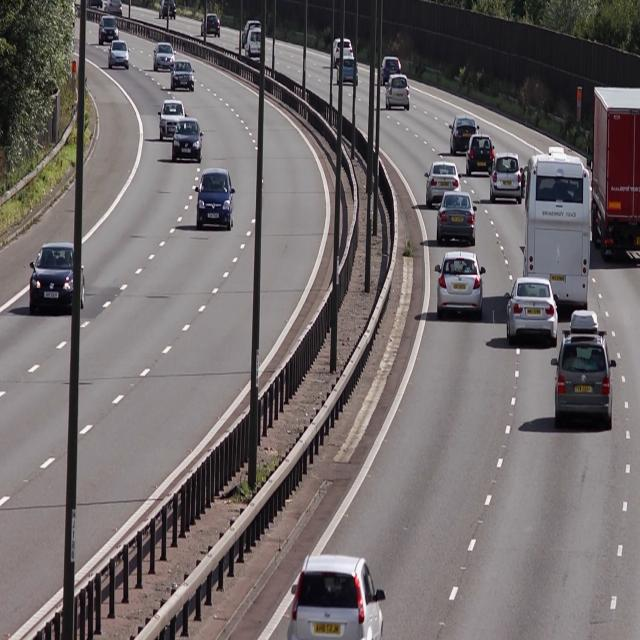Vehicle: (514, 157, 597, 310), (592, 84, 640, 266), (286, 554, 381, 640), (553, 310, 616, 425), (28, 245, 88, 321), (504, 276, 558, 348), (432, 249, 487, 319), (194, 160, 237, 231), (436, 189, 480, 246), (423, 159, 462, 211), (489, 146, 520, 208), (169, 117, 204, 163), (464, 132, 494, 178), (448, 114, 478, 154), (384, 73, 412, 114), (159, 99, 184, 143), (106, 37, 130, 71), (170, 56, 192, 92), (376, 53, 401, 83), (152, 43, 174, 72), (96, 17, 118, 44)
